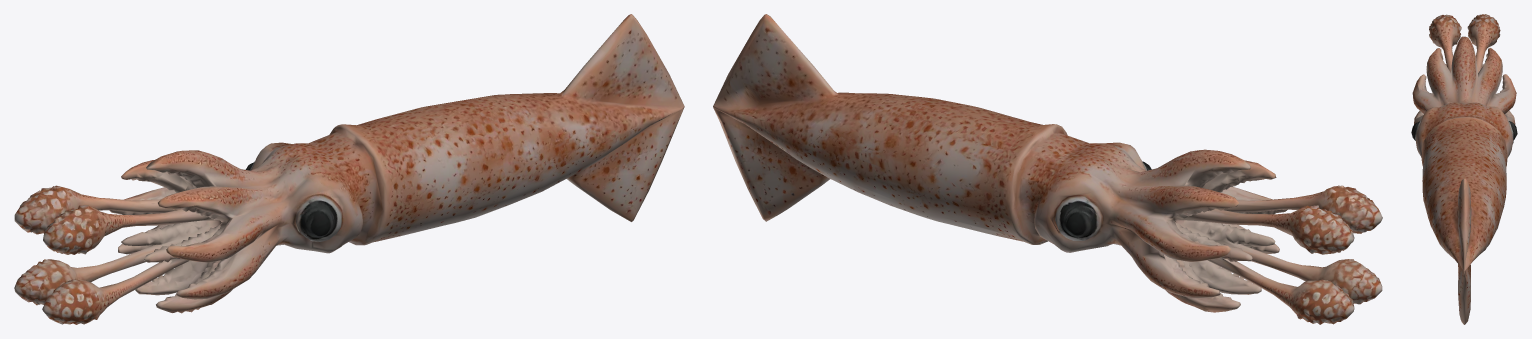
Rendered from fish-kalmar.glb.
3 renders of one model, left to right at view 1: azimuth 30°, elevation 25°; view 2: azimuth 150°, elevation 25°; view 3: azimuth 270°, elevation 25°, orthographic. The views are drawn at different scales.
Parts seen in each view (by area): view 1: tripo_node_61768c13-f923-4acf-ad75-2224f18ad57d; view 2: tripo_node_61768c13-f923-4acf-ad75-2224f18ad57d; view 3: tripo_node_61768c13-f923-4acf-ad75-2224f18ad57d.
Boxes of the visible parts, box(x1,y1,x2,y2) form: tripo_node_61768c13-f923-4acf-ad75-2224f18ad57d: box(14, 14, 684, 324); tripo_node_61768c13-f923-4acf-ad75-2224f18ad57d: box(713, 14, 1382, 324); tripo_node_61768c13-f923-4acf-ad75-2224f18ad57d: box(1411, 14, 1517, 324).
Bounding box in the file's own units: 1 × 0.3022 × 0.199.
Materials: 1 (1 with a texture image).
